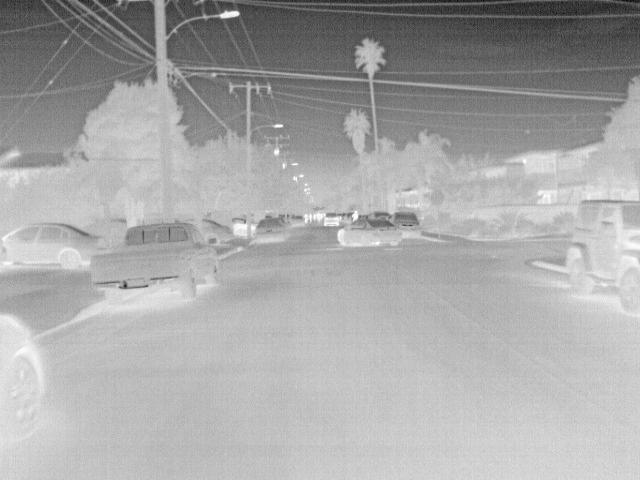car: (91, 221, 221, 305), (564, 196, 640, 317), (1, 311, 46, 446), (1, 220, 104, 269), (335, 220, 400, 248), (253, 214, 291, 244), (393, 211, 426, 240), (207, 220, 237, 246), (323, 212, 341, 228)
person: (348, 208, 362, 222), (302, 212, 310, 225)
